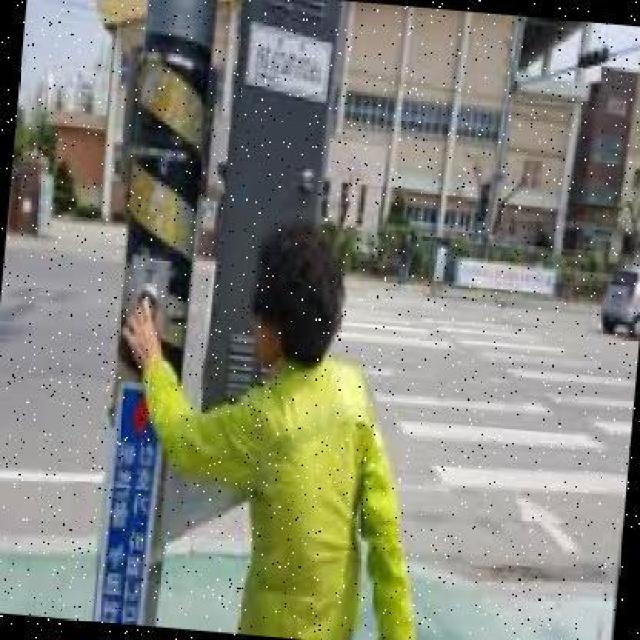Person: (103, 211, 451, 638)
